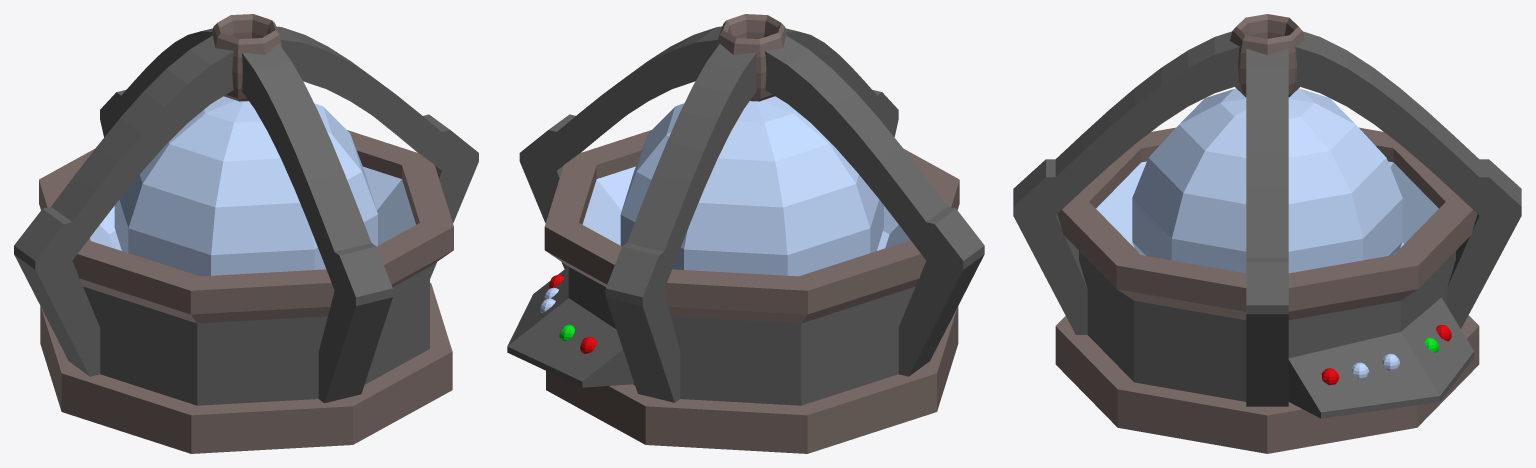
Rendered from HologramBot.fbx.
3 renders of one model, left to right at view 1: azimuth 30°, elevation 25°; view 2: azimuth 150°, elevation 25°; view 3: azimuth 270°, elevation 25°, orthographic.
Parts seen in each view (by area): view 1: Cylinder; view 2: Cylinder; view 3: Cylinder.
Part boxes in pixels (x1=…): Cylinder: x1=14, y1=14, x2=478, y2=453; Cylinder: x1=507, y1=14, x2=984, y2=453; Cylinder: x1=1013, y1=14, x2=1521, y2=453.
Bounding box in the file's own units: 240 × 176 × 240.
